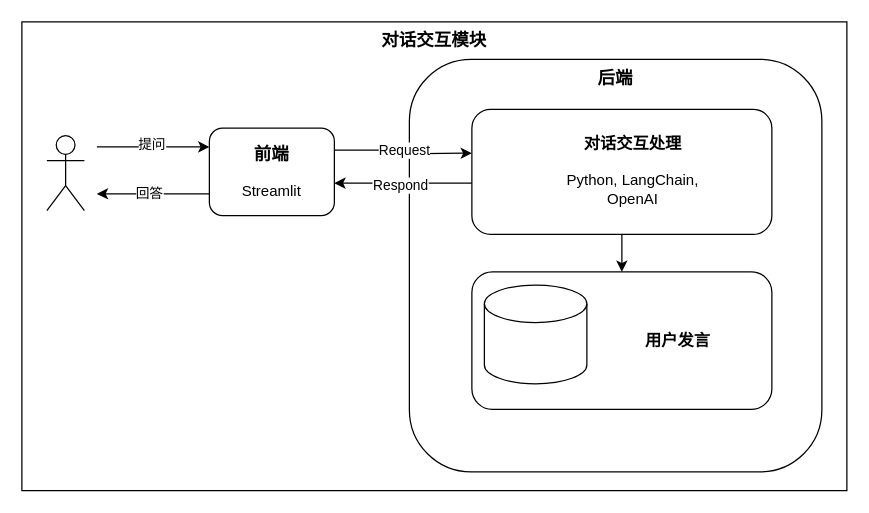
Image size: 869x513. Some labels were removed from this diagram. The shapes that lost their labels are listed below. From the top down, each one's box as (x1, y1, x2, y2) in pixels, then its label:
(46, 134, 84, 211): 使用者
(483, 284, 587, 384): 向量数据库 Pinecone
